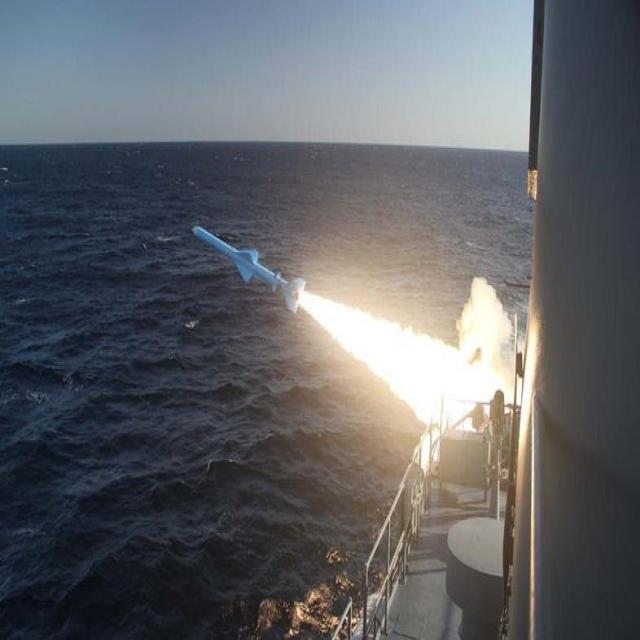missile: (184, 212, 314, 318)
